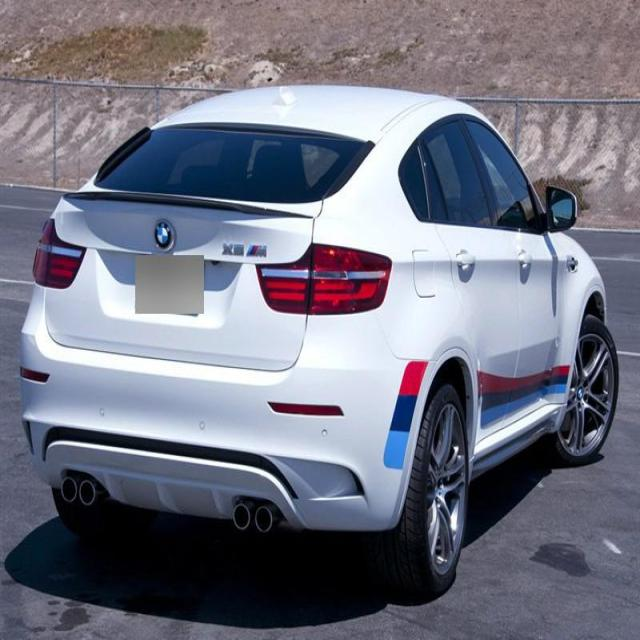back_glass: (94, 123, 367, 204)
back_left_side_light: (32, 217, 87, 290)
back_right_side_light: (254, 240, 394, 318)
door: (410, 112, 524, 452)
front_right_side_door: (476, 103, 564, 430)
front_right_side_mirror: (544, 186, 578, 234)
rear_bumper: (17, 329, 415, 532)
wheel: (393, 385, 470, 596), (553, 317, 621, 465)
